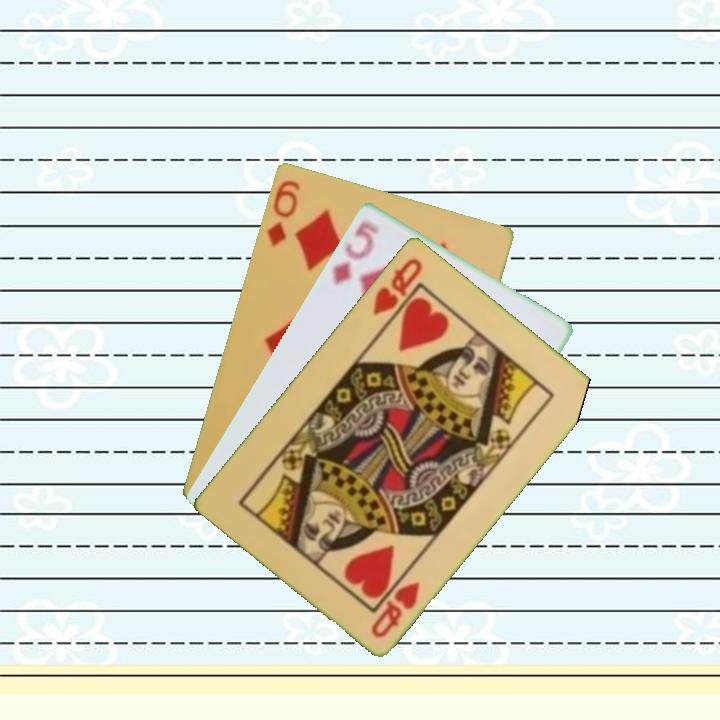5d: (329, 216, 382, 287)
6d: (263, 176, 303, 249)
Qh: (368, 254, 426, 318), (367, 577, 423, 641)
